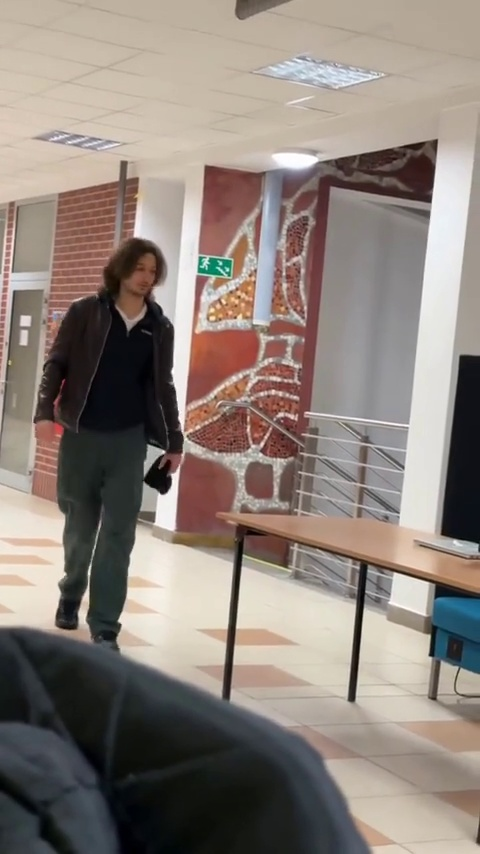no vest: (43, 237, 184, 640)
